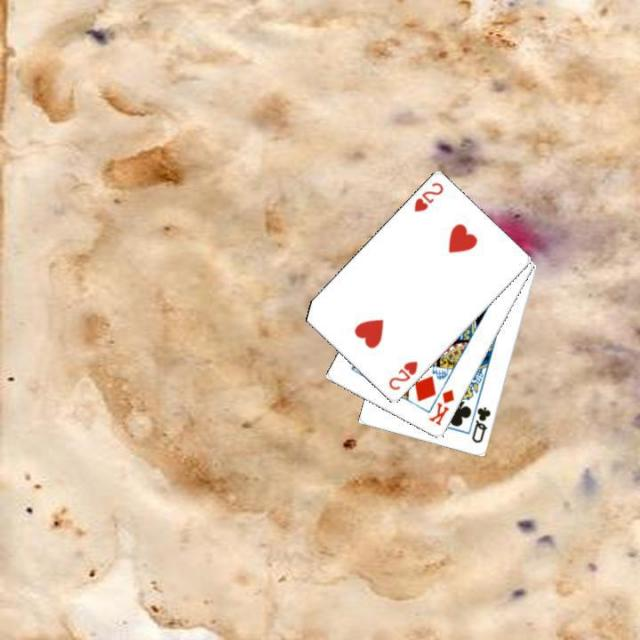2H: (384, 357, 420, 393), (410, 179, 445, 214)
KD: (425, 386, 456, 428)
QC: (468, 403, 492, 445)
